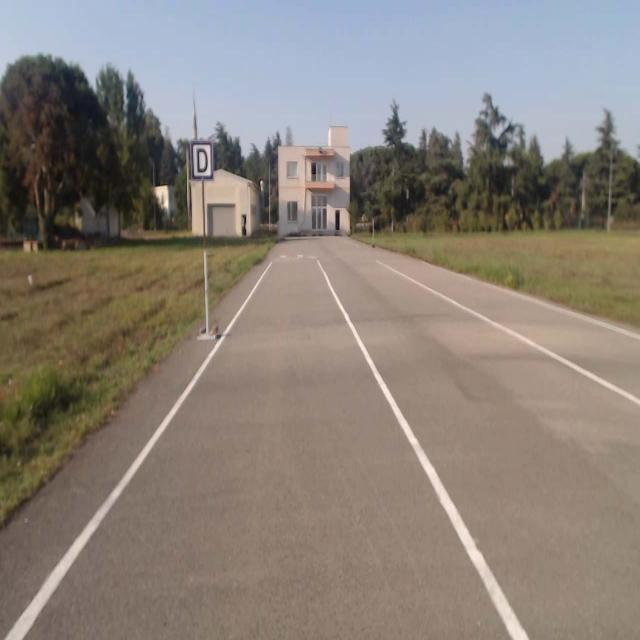durak: (192, 140, 212, 178)
